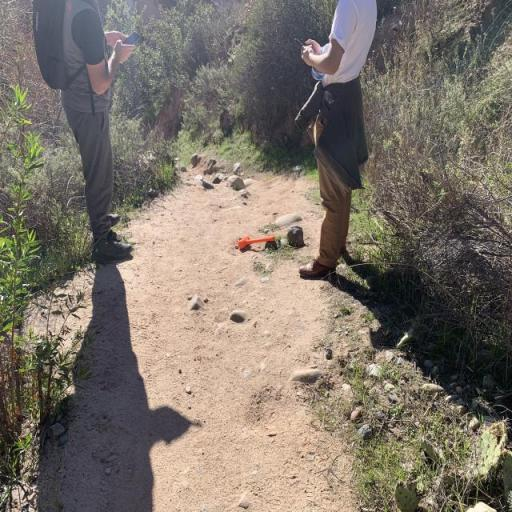mallet: (238, 235, 275, 249)
